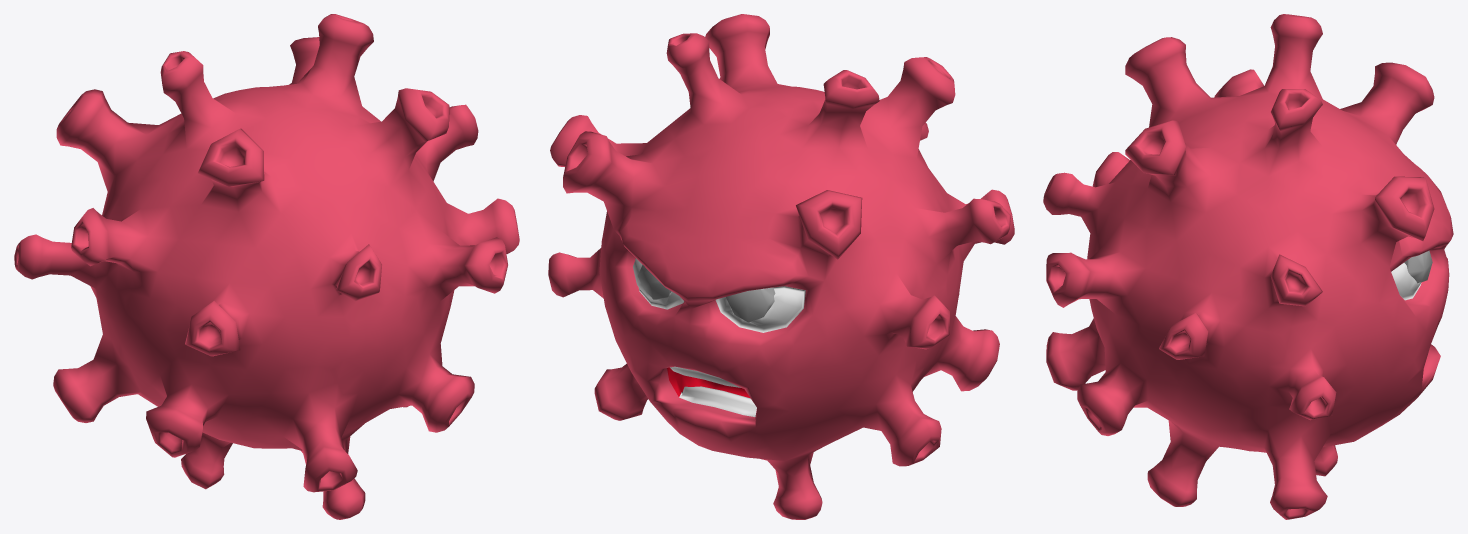
Rendered from CoronaAnim_2.fbx.
The picture shows the model from 3 angles, left to right: view 1: azimuth 30°, elevation 25°; view 2: azimuth 150°, elevation 25°; view 3: azimuth 270°, elevation 25°; orthographic projection.
Parts seen in each view (by area): view 1: pCube6; view 2: pCube6; view 3: pCube6.
Boxes of the visible parts, x1,y1,x2,y2 form: pCube6: (14, 14, 519, 519); pCube6: (548, 14, 1014, 519); pCube6: (1043, 14, 1453, 519).
Size of the model in its own units: 4.24 by 4.25 by 3.59.
